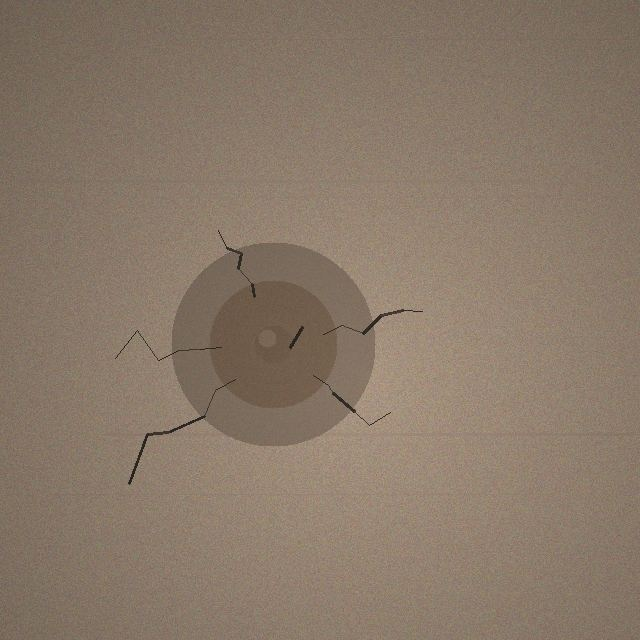crack: (171, 242, 375, 446)
